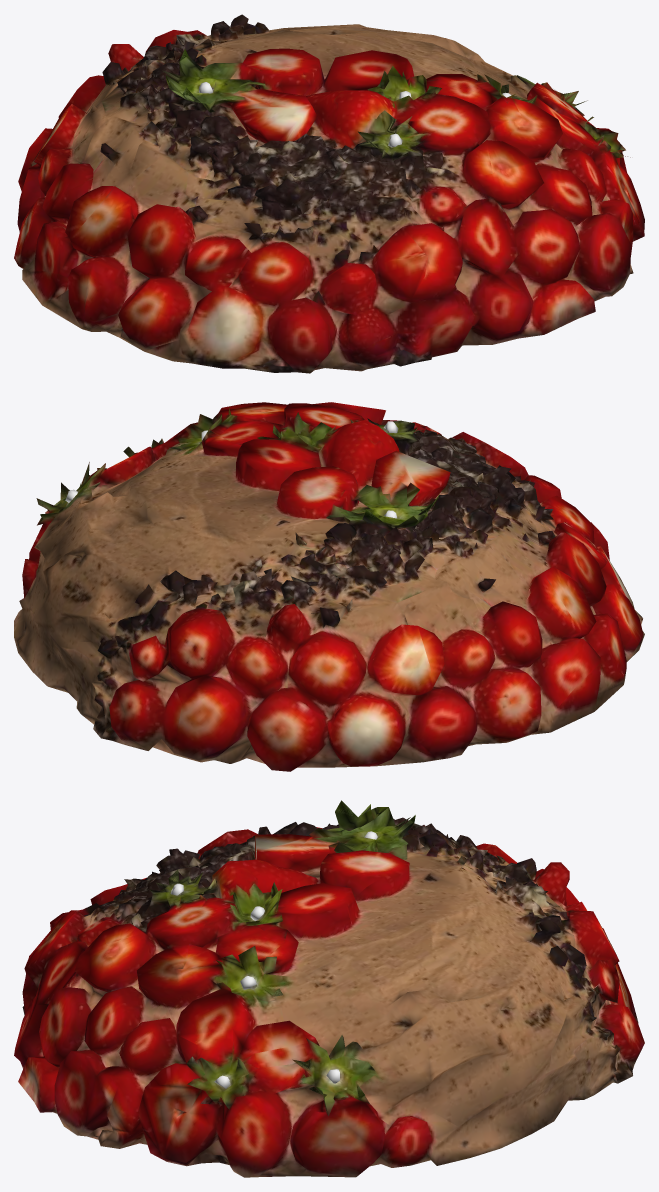
The model's file is strawberry_chocolate_cake.glb.
3 renders of one model, top to bottom at view 1: azimuth 30°, elevation 25°; view 2: azimuth 150°, elevation 25°; view 3: azimuth 270°, elevation 25°, orthographic. The views are drawn at different scales.
Parts seen in each view (by area): view 1: strawberry_chocolate_cake; view 2: strawberry_chocolate_cake; view 3: strawberry_chocolate_cake.
Boxes of the visible parts, x1,y1,x2,y2 form: strawberry_chocolate_cake: (14,14,644,373); strawberry_chocolate_cake: (14,402,644,771); strawberry_chocolate_cake: (14,800,644,1177).
Bounding box in the file's own units: 0.2435 × 0.0782 × 0.2402.
Materials: 1 (1 with a texture image).
